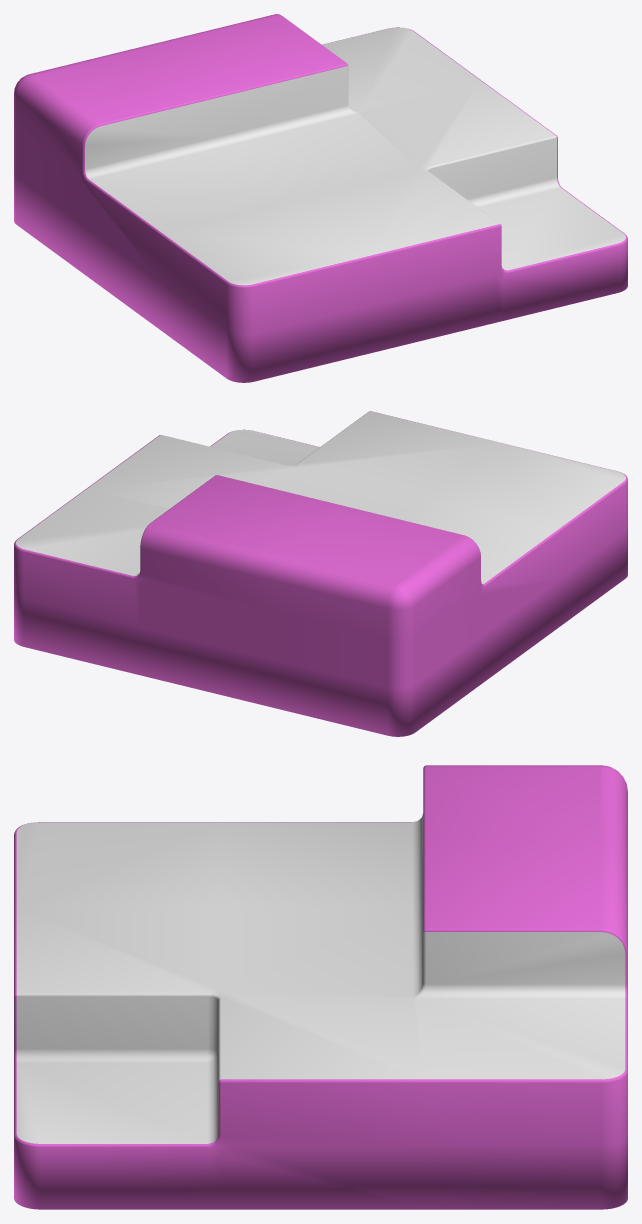
Rendered from Mining_Flat_DugOut_Top_03.fbx.
3 views of the same model, one above another, from view 1: azimuth 30°, elevation 25°; view 2: azimuth 150°, elevation 25°; view 3: azimuth 270°, elevation 25° (orthographic). The views are drawn at different scales.
Parts seen in each view (by area): view 1: Mining_Top_DugOut 03; view 2: Mining_Top_DugOut 03; view 3: Mining_Top_DugOut 03.
Part boxes in pixels (x1,y1,x2,y2): Mining_Top_DugOut 03: [14, 14, 627, 382]; Mining_Top_DugOut 03: [14, 411, 627, 736]; Mining_Top_DugOut 03: [14, 765, 627, 1209].
Bounding box in the file's own units: 5.75 × 5.75 × 2.
